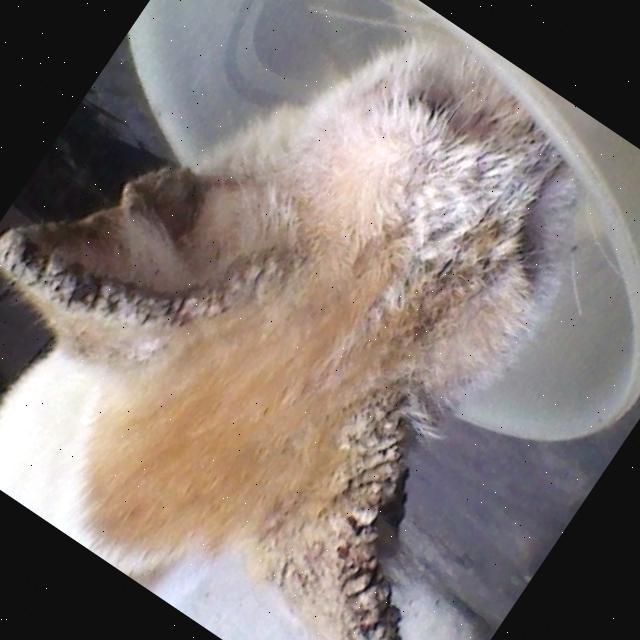cat-scabies: (298, 433, 421, 570), (374, 237, 476, 351), (285, 572, 448, 640), (0, 231, 104, 329), (98, 274, 181, 356)
